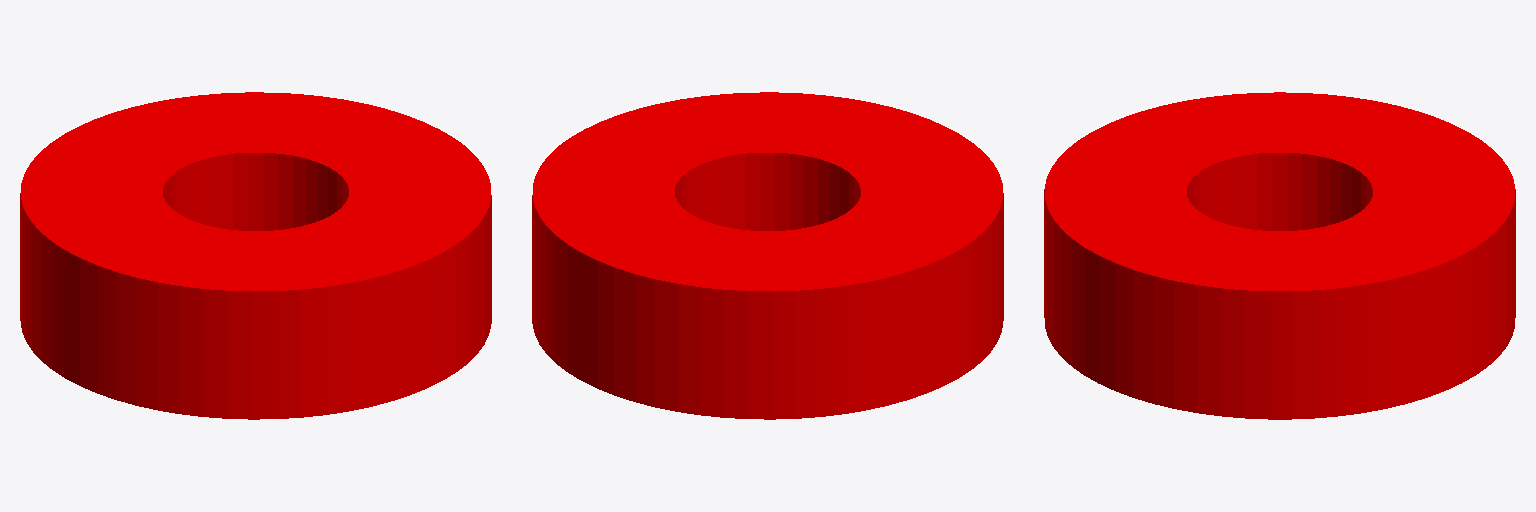
The robot description file, URDF, robot "token_d240":
<?xml version="1.0"?>
<robot name="token_d240">

    <material name="red">
        <color rgba="1 0 0 1"/>
    </material>

    <link name="token_d240_link">
        <inertial>
            <origin xyz="0 0 0.0036"/>
            <mass value="0.15" />
            <inertia  ixx="0.0000066875" ixy="0.0"  ixz="0.0"  iyy="0.0000066875"  iyz="0.0"  izz="0.000012318" />
        </inertial>
        <visual>
            <origin rpy="0 0 0" xyz="0 0 0"/>
            <geometry>
                <mesh filename="package://edo_games/meshes/towers_of_hanoi/token-24.STL" />
            </geometry>
            <material name="red"/>
        </visual>
        <collision>
            <origin rpy="0 0 0" xyz="0 0 0"/>
            <geometry>
                <mesh filename="package://edo_games/meshes/towers_of_hanoi/token-24.STL" />
            </geometry>
        </collision>
    </link>
    <gazebo reference="token_d240_link">
        <dampingFactor>0.5</dampingFactor>
        <material>Gazebo/Red</material>
    </gazebo>

</robot>

--- Render facts (derived) ---
Views: 3 orthographic renders of the robot side by side, from view 1: azimuth 30°, elevation 25°; view 2: azimuth 150°, elevation 25°; view 3: azimuth 270°, elevation 25°.
Robot: token_d240 — 1 links, 0 joints (none); root link token_d240_link; default pose: all joints at 0.
Visible links, largest first — view 1: token_d240_link; view 2: token_d240_link; view 3: token_d240_link.
Boxes of the visible links, x1,y1,x2,y2 form: token_d240_link: (20,92,491,419); token_d240_link: (532,92,1003,419); token_d240_link: (1044,92,1515,419).
Bounding box of the posed robot: 0.024 × 0.024 × 0.0072 m (x, y, z).
1 mesh visuals loaded from 1 distinct referenced files (1 binary STL).